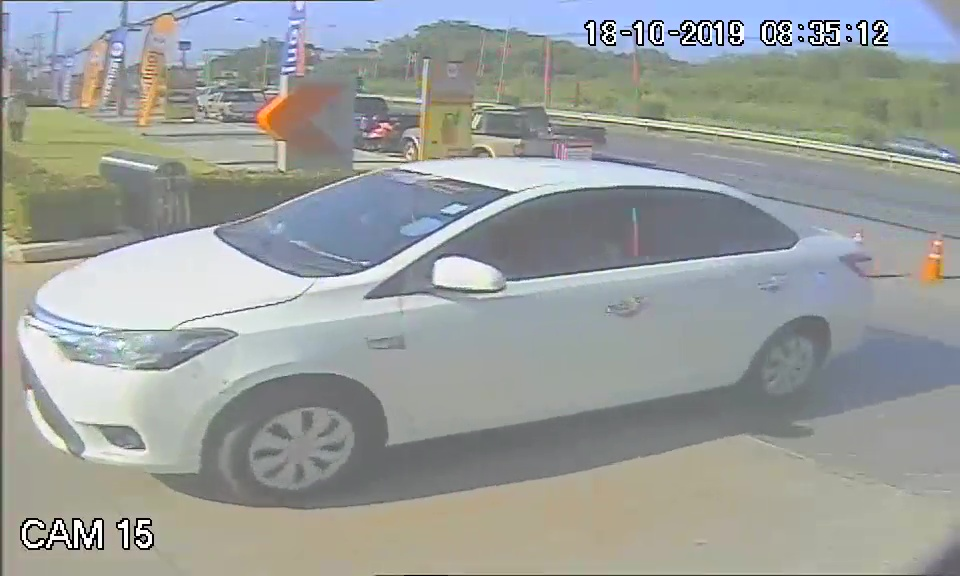sedan: (15, 154, 870, 501)
